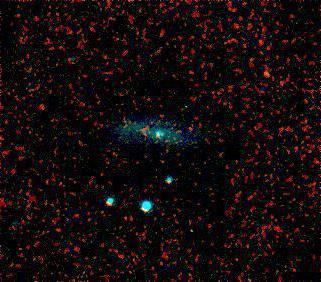star: (253, 55, 283, 85)
